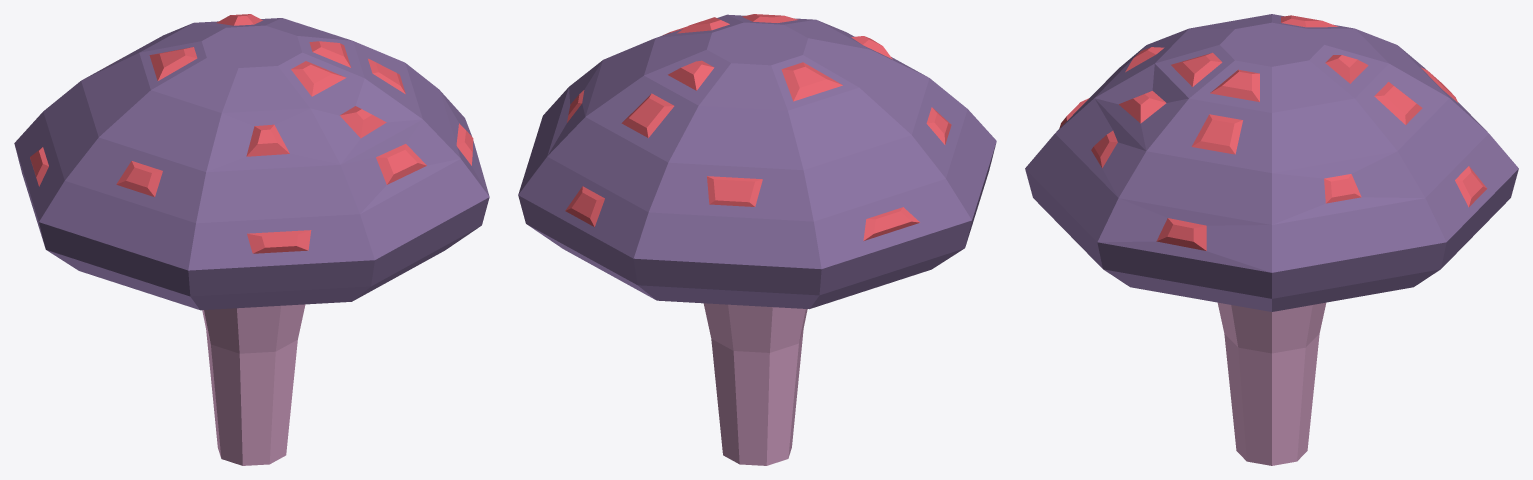
The model's file is Mushroom.fbx.
3 views of the same model, side by side, from view 1: azimuth 30°, elevation 25°; view 2: azimuth 150°, elevation 25°; view 3: azimuth 270°, elevation 25° (orthographic).
Visible parts, largest first — view 1: Cylinder; view 2: Cylinder; view 3: Cylinder.
Boxes of the visible parts, left/top/right/bottom form: Cylinder: left=14, top=14, right=489, bottom=465; Cylinder: left=518, top=14, right=996, bottom=465; Cylinder: left=1025, top=14, right=1518, bottom=465.
Size of the model in its own units: 761 by 691 by 761.
